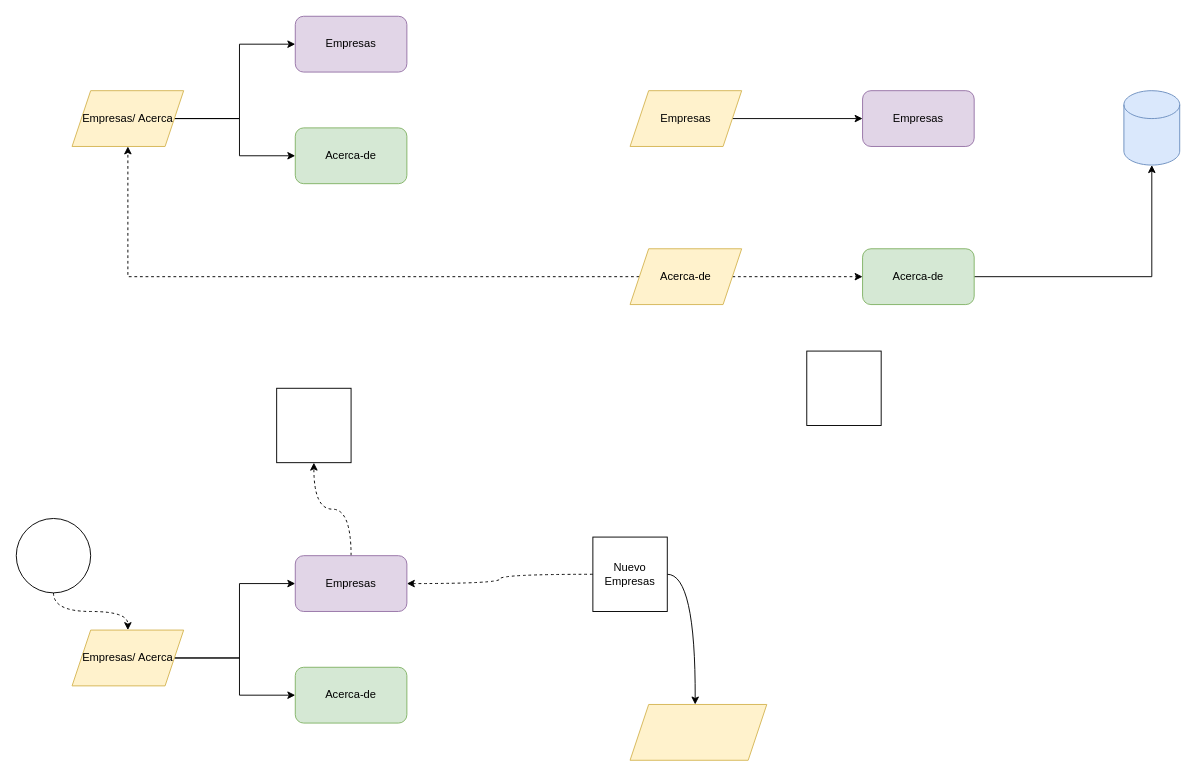
This 1196x777 diagram has some shape labels left out. Each missing label, with the centre of its shape:
Bancolombia: point 53,555
EmpresasContenido Empresas Diseño: point 698,732
Paginas Actuales no rediseñadas: point 313,425
Registro ID's: point 843,387
V9.0: point 1151,127
